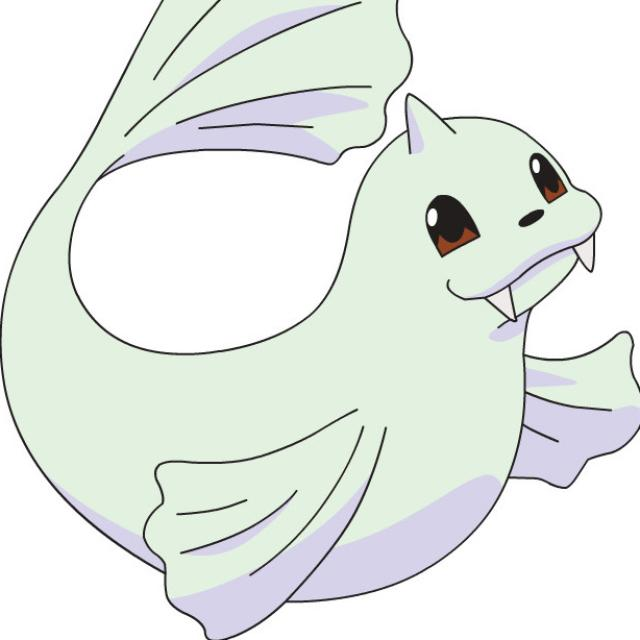Dewgong: (8, 2, 612, 618)
